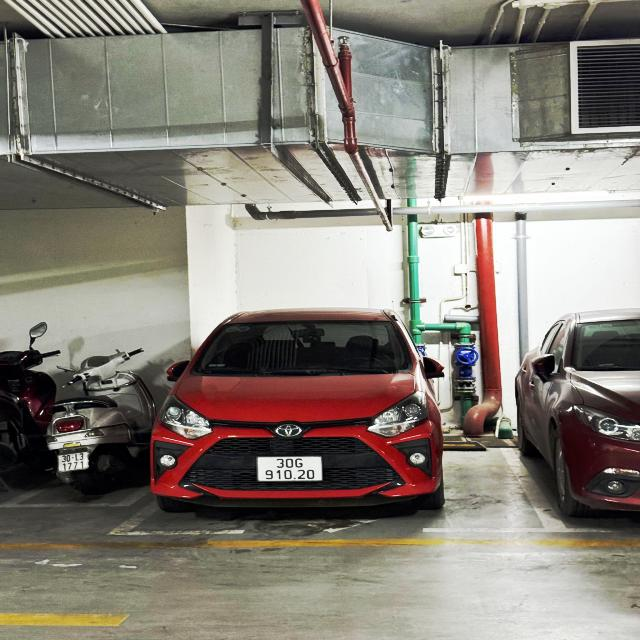license_plate: (255, 456, 326, 484), (55, 450, 92, 476)
